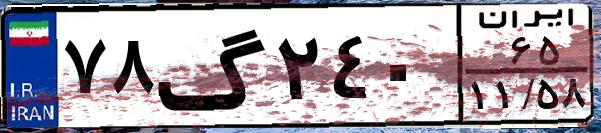0: (385, 28, 445, 110)
1: (470, 70, 495, 125), (495, 70, 520, 125)
2: (270, 28, 330, 110)
4: (330, 28, 385, 110)
5: (537, 27, 568, 80), (535, 70, 560, 125)
6: (508, 27, 537, 80)
7: (57, 26, 110, 100)
8: (110, 28, 156, 98), (560, 70, 590, 125)
گ: (156, 12, 270, 120)
